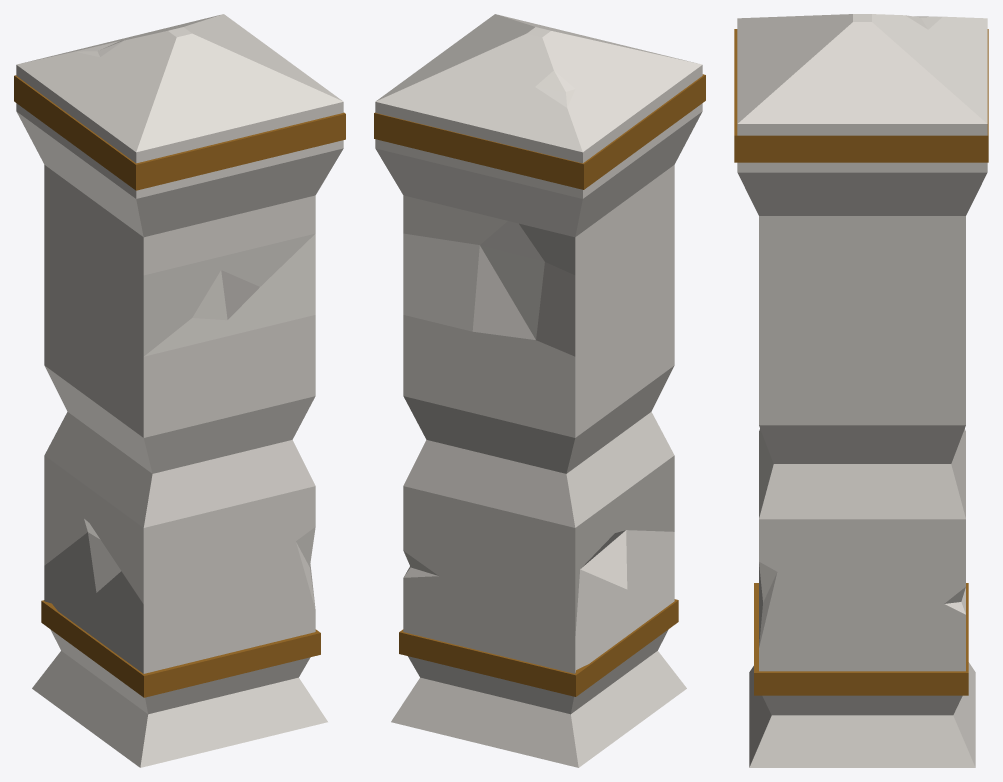
File: Pillar.fbx
The picture shows the model from 3 angles, left to right: view 1: azimuth 30°, elevation 25°; view 2: azimuth 150°, elevation 25°; view 3: azimuth 270°, elevation 25°; orthographic projection. The views are drawn at different scales.
Parts seen in each view (by area): view 1: Pillar, GoldOrnament1, GoldOrnament2; view 2: Pillar, GoldOrnament1, GoldOrnament2; view 3: Pillar, GoldOrnament1, GoldOrnament2.
Part boxes in pixels (x1,y1,x2,y2): Pillar: (16,14,343,767); GoldOrnament1: (14,75,345,190); GoldOrnament2: (41,600,320,697); Pillar: (375,14,702,767); GoldOrnament1: (374,74,705,189); GoldOrnament2: (399,599,678,696); Pillar: (737,14,987,767); GoldOrnament1: (734,29,988,162); GoldOrnament2: (754,583,968,695).
Bounding box in the file's own units: 244 × 748 × 246.
